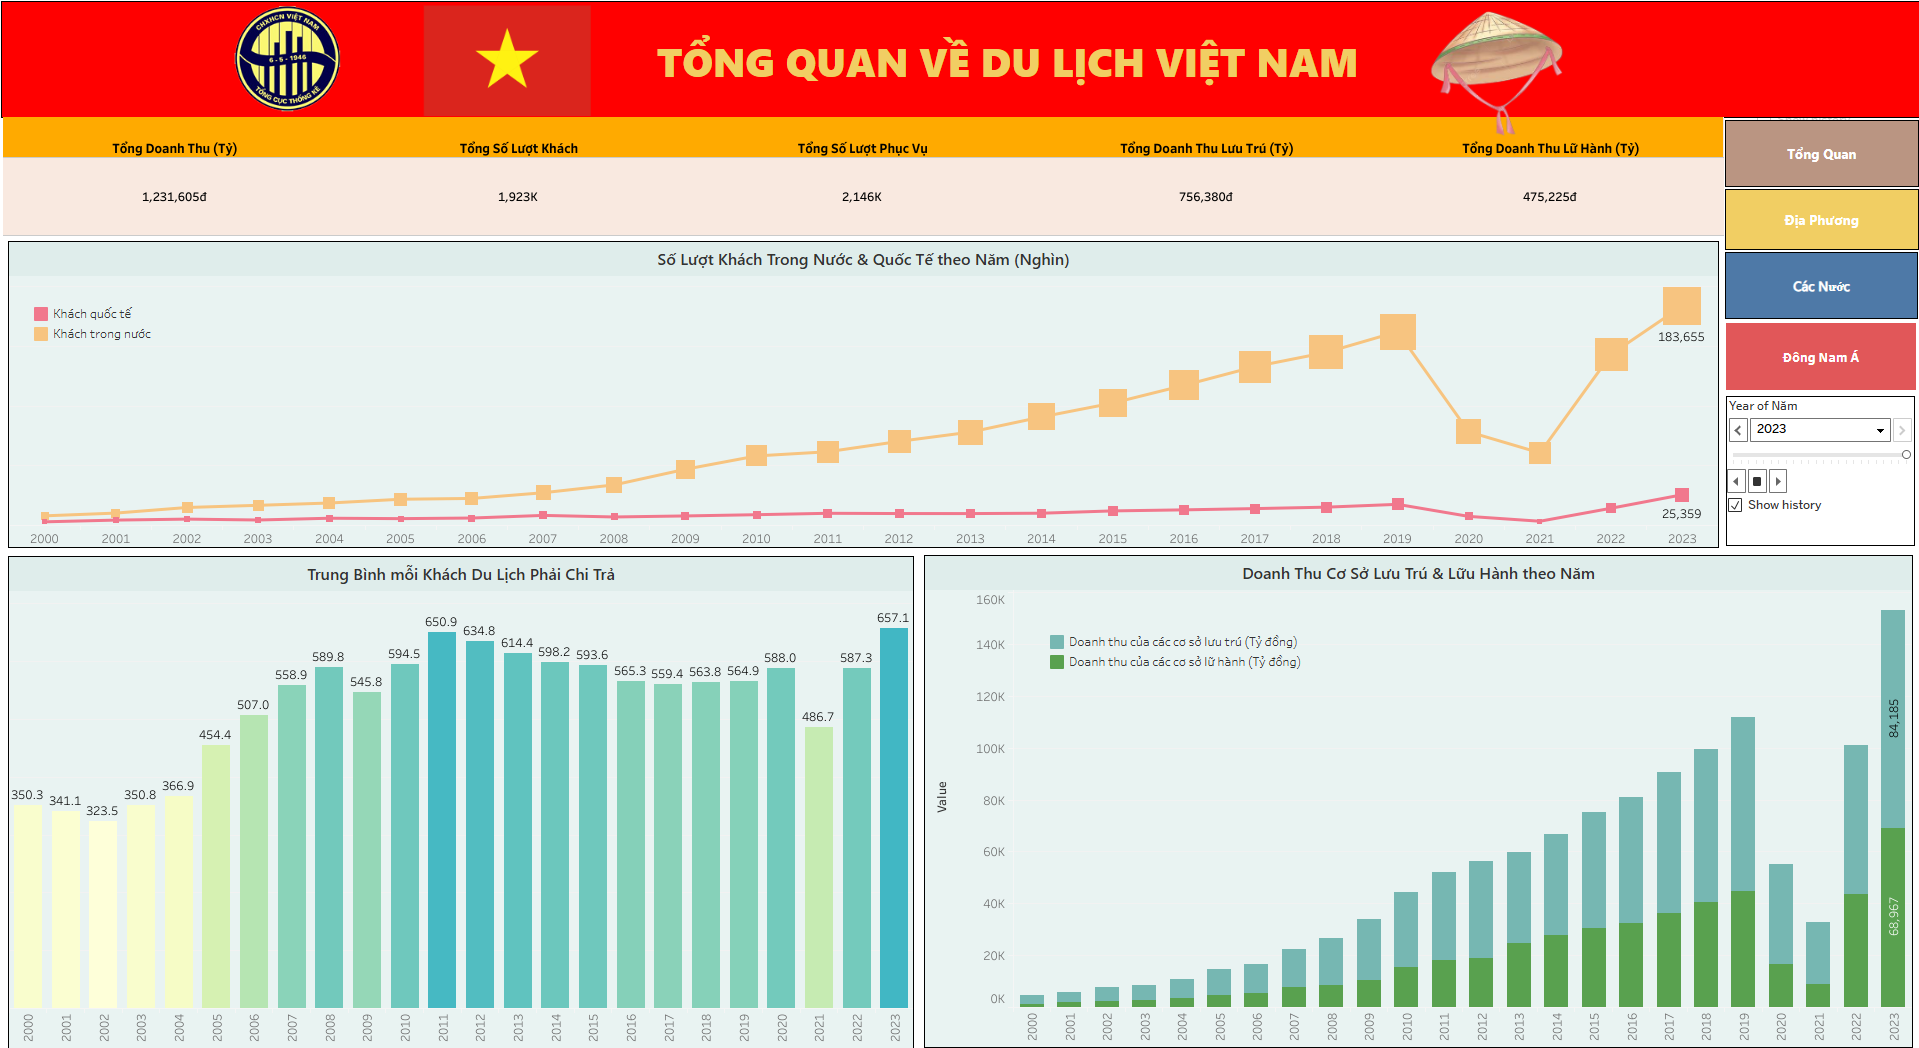

What the dashboard file says about the page in this screenshot:
{"tool":"tableau","page":{"name":"Tổng Quan","canvas":[1000,1000],"units":"permille","ordinal":1},"visuals":[{"type":"blank","box":[0.6,1.2,1002.5,111.2]},{"type":"text","box":[342.3,2.4,561.1,110]},{"type":"image","param":"C:/fpoly/Tableau/Tong-cuc-thong-ke.png","box":[94.1,3.7,112.2,103.9]},{"type":"image","param":"C:/fpoly/Tableau/la_co_Viet_Nam.png","box":[195.1,4.9,137.8,105.1]},{"type":"currpage","title":"Trung Bình mỗi Khách Du Lịch Phải Chi Trả","box":[895.3,9.1,99.8,150.3]},{"type":"worksheet","title":"Tổng Quan Doanh Thu","mark":"Automatic","box":[1.8,111.2,895.9,112.5]},{"type":"dashboard-object","box":[898.2,113.7,101.1,63.6]},{"type":"dashboard-object","box":[898.4,179.7,101,57.5]},{"type":"worksheet","title":"Số Lượt Khách Trong Nước & Quốc Tế theo Năm (Nghìn)","mark":"Square","cols":["Năm"],"box":[4.4,228.6,890.9,292.2]},{"type":"dashboard-object","box":[898.4,239.6,100.4,63.6]},{"type":"dashboard-object","box":[899,306.9,99.1,63.6]},{"type":"currpage","title":"Số Lượt Khách Trong Nước & Quốc Tế theo Năm (Nghìn)","box":[899.2,376.5,98.3,141.8]},{"type":"worksheet","title":"Doanh Thu Cơ Sở Lưu Trú & Lữu Hành theo Năm","mark":"Bar","cols":["Năm"],"box":[481,526.9,515.2,468.2]},{"type":"worksheet","title":"Trung Bình mỗi Khách Du Lịch Phải Chi Trả","mark":"Bar","rows":["Calculation_322851865185640454"],"cols":["Năm"],"box":[4.4,528.1,471.7,468.2]},{"type":"legend","title":"Doanh Thu Cơ Sở Lưu Trú & Lữu Hành theo Năm","param":"[federated.0jeudoj17tol3m15mo1590fdyjva].[:Measure Names]","box":[545.5,600.2,236.9,70.9]}]}

Visuals, with their boxes on the dashboard's canvas, which has no fixed pixel size, in thousandths of its width and height (x1, y1, x2, y2). These are canvas units, not pixel positions in the 1919x1048 screenshot, which may show the page scaled, cropped or inside an application window:
blank: [1,1,1003,112]
text: [342,2,903,112]
image: [94,4,206,108]
image: [195,5,333,110]
"Trung Bình mỗi Khách Du Lịch Phải Chi Trả" currpage: [895,9,995,159]
"Tổng Quan Doanh Thu" worksheet: [2,111,898,224]
dashboard-object: [898,114,999,177]
dashboard-object: [898,180,999,237]
"Số Lượt Khách Trong Nước & Quốc Tế theo Năm (Nghìn)" worksheet (Square marks): [4,229,895,521]
dashboard-object: [898,240,999,303]
dashboard-object: [899,307,998,370]
"Số Lượt Khách Trong Nước & Quốc Tế theo Năm (Nghìn)" currpage: [899,376,998,518]
"Doanh Thu Cơ Sở Lưu Trú & Lữu Hành theo Năm" worksheet (Bar marks): [481,527,996,995]
"Trung Bình mỗi Khách Du Lịch Phải Chi Trả" worksheet (Bar marks): [4,528,476,996]
"Doanh Thu Cơ Sở Lưu Trú & Lữu Hành theo Năm" legend: [546,600,782,671]
